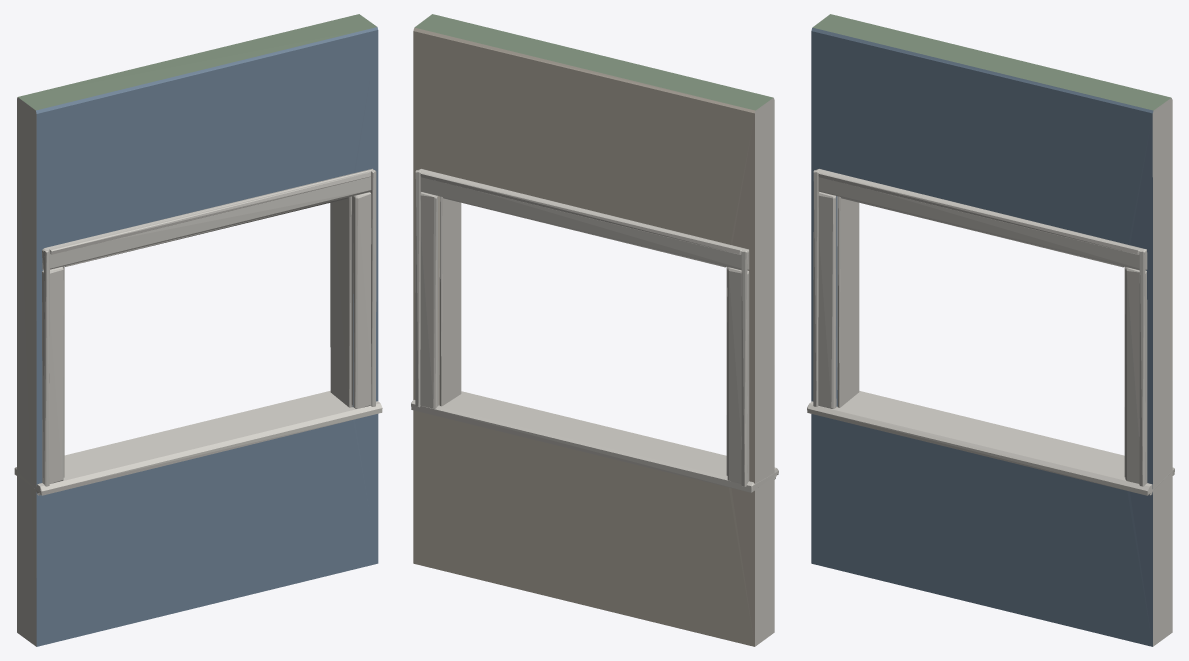
File: SM_Kit_Wall_Window2_LOD1.glb
3 renders of one model, left to right at view 1: azimuth 30°, elevation 25°; view 2: azimuth 150°, elevation 25°; view 3: azimuth 330°, elevation 25°, orthographic.
Parts seen in each view (by area): view 1: SM_Kit_Wall_Window2_LOD1; view 2: SM_Kit_Wall_Window2_LOD1; view 3: SM_Kit_Wall_Window2_LOD1.
Boxes of the visible parts, x1=… form: SM_Kit_Wall_Window2_LOD1: x1=14, y1=14, x2=382, y2=646; SM_Kit_Wall_Window2_LOD1: x1=411, y1=14, x2=778, y2=646; SM_Kit_Wall_Window2_LOD1: x1=807, y1=14, x2=1174, y2=646.
Size of the model in its own units: 2 by 3 by 0.2891.
